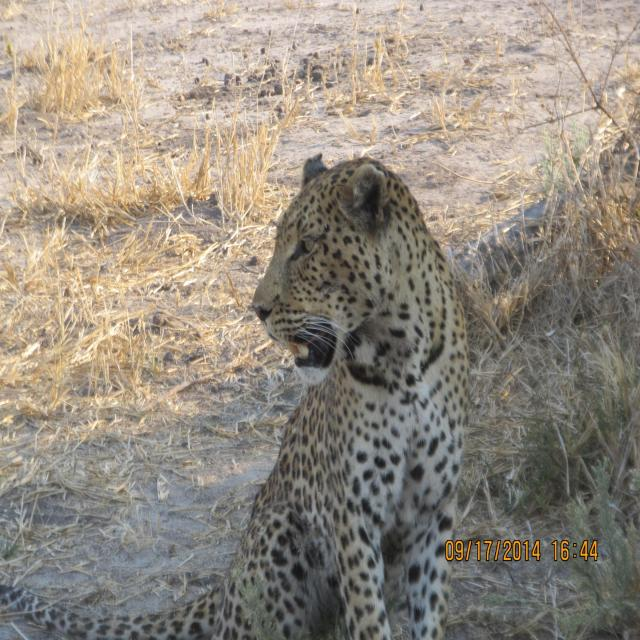Leopard: (4, 114, 550, 640)
